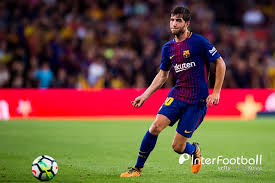barcelona: (125, 5, 217, 176)
